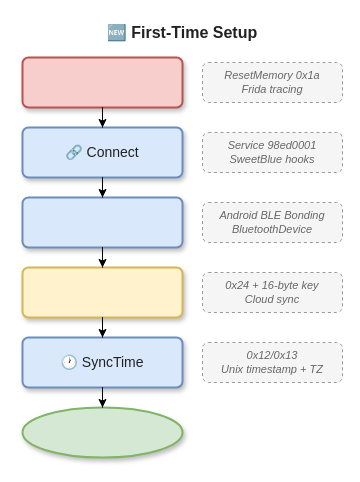
This 360x482 diagram has some shape labels left out. Here are the shapes that lost their labels. From the top down, the centre of each, then its label:
At point (103, 83): "🔄 Factory Reset".
At point (103, 223): "🤝 Pair".
At point (103, 293): "🔑 SetAuthKey".
At point (103, 433): "✅ Ready".
